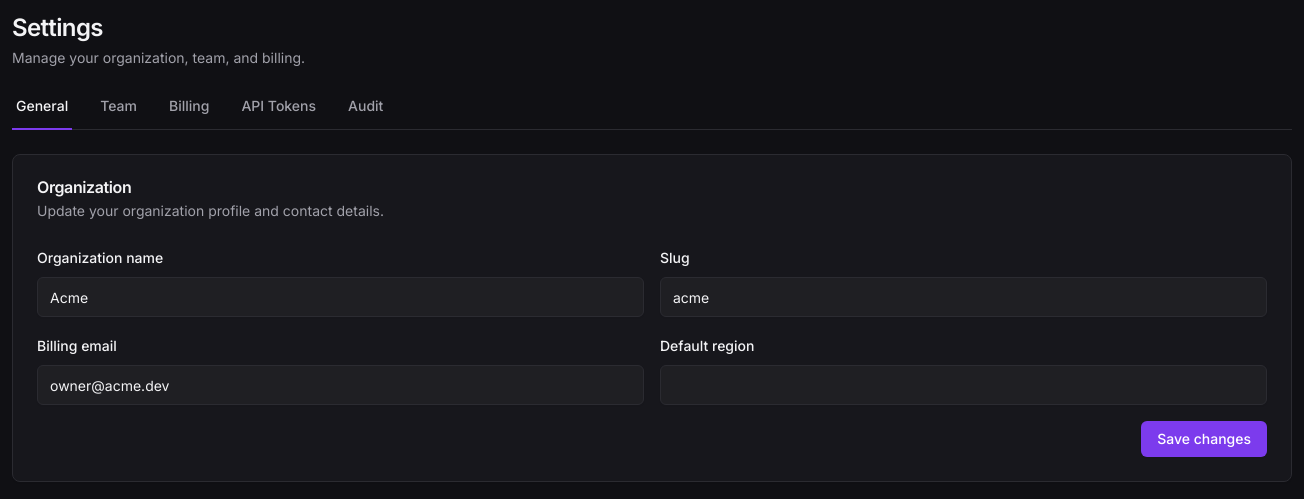
Test: Settings — Audit › renders org audit rows (actor/action/target)
Click the tab "Audit".
click(366, 111)  # box [344, 92, 387, 130]
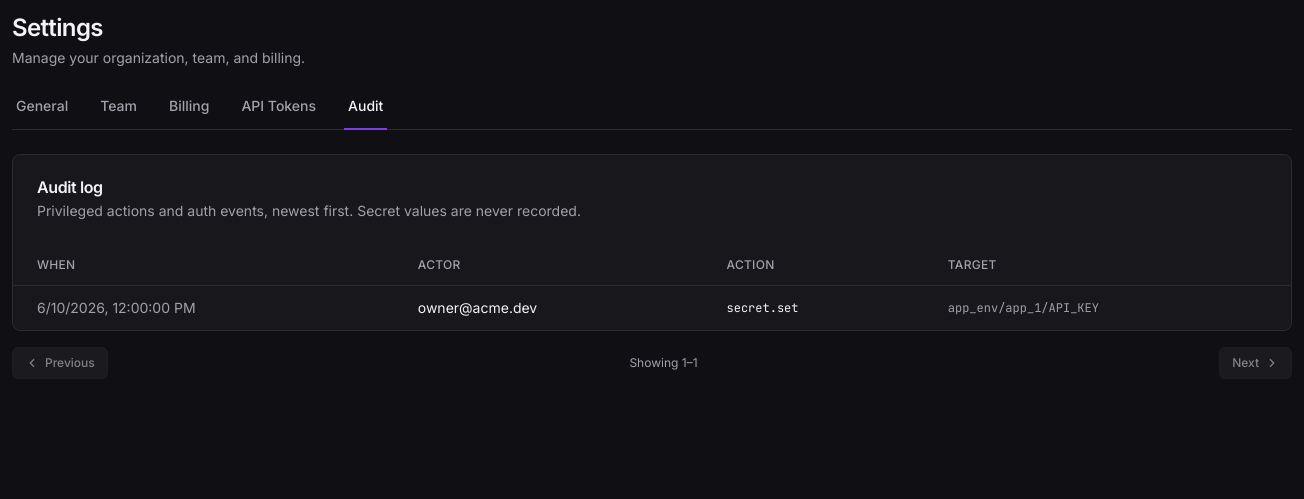
Now the text "secret.set" is shown, box [702, 286, 924, 330]
Now the text "owner@acme.dev" is shown, box [394, 286, 703, 330]
Now the text "app_env/app_1/API_KEY" is shown, box [924, 286, 1291, 330]
